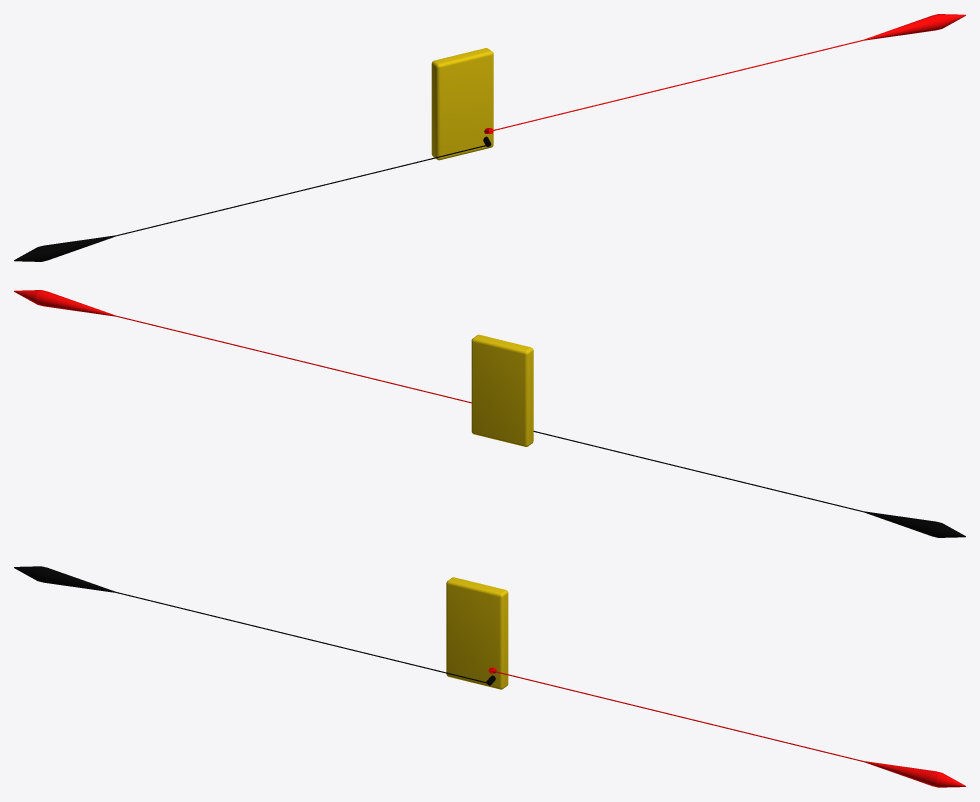
The picture shows the model from 3 angles, top to bottom: view 1: azimuth 30°, elevation 25°; view 2: azimuth 150°, elevation 25°; view 3: azimuth 330°, elevation 25°; orthographic projection.
Visible parts, largest first — view 1: plate, black_wire, red_wire; view 2: plate, red_wire, black_wire; view 3: plate, red_wire, black_wire.
Boxes of the visible parts, box(x1,y1,x2,y2) form: plate: box(431, 48, 493, 160); black_wire: box(14, 144, 490, 261); red_wire: box(490, 14, 965, 131); plate: box(471, 334, 533, 446); red_wire: box(14, 290, 471, 403); black_wire: box(533, 431, 965, 537); plate: box(446, 577, 508, 689); red_wire: box(489, 670, 965, 787); black_wire: box(14, 566, 489, 683).
Bounding box in the file's own units: 0.15 × 0.0145 × 0.00405.
